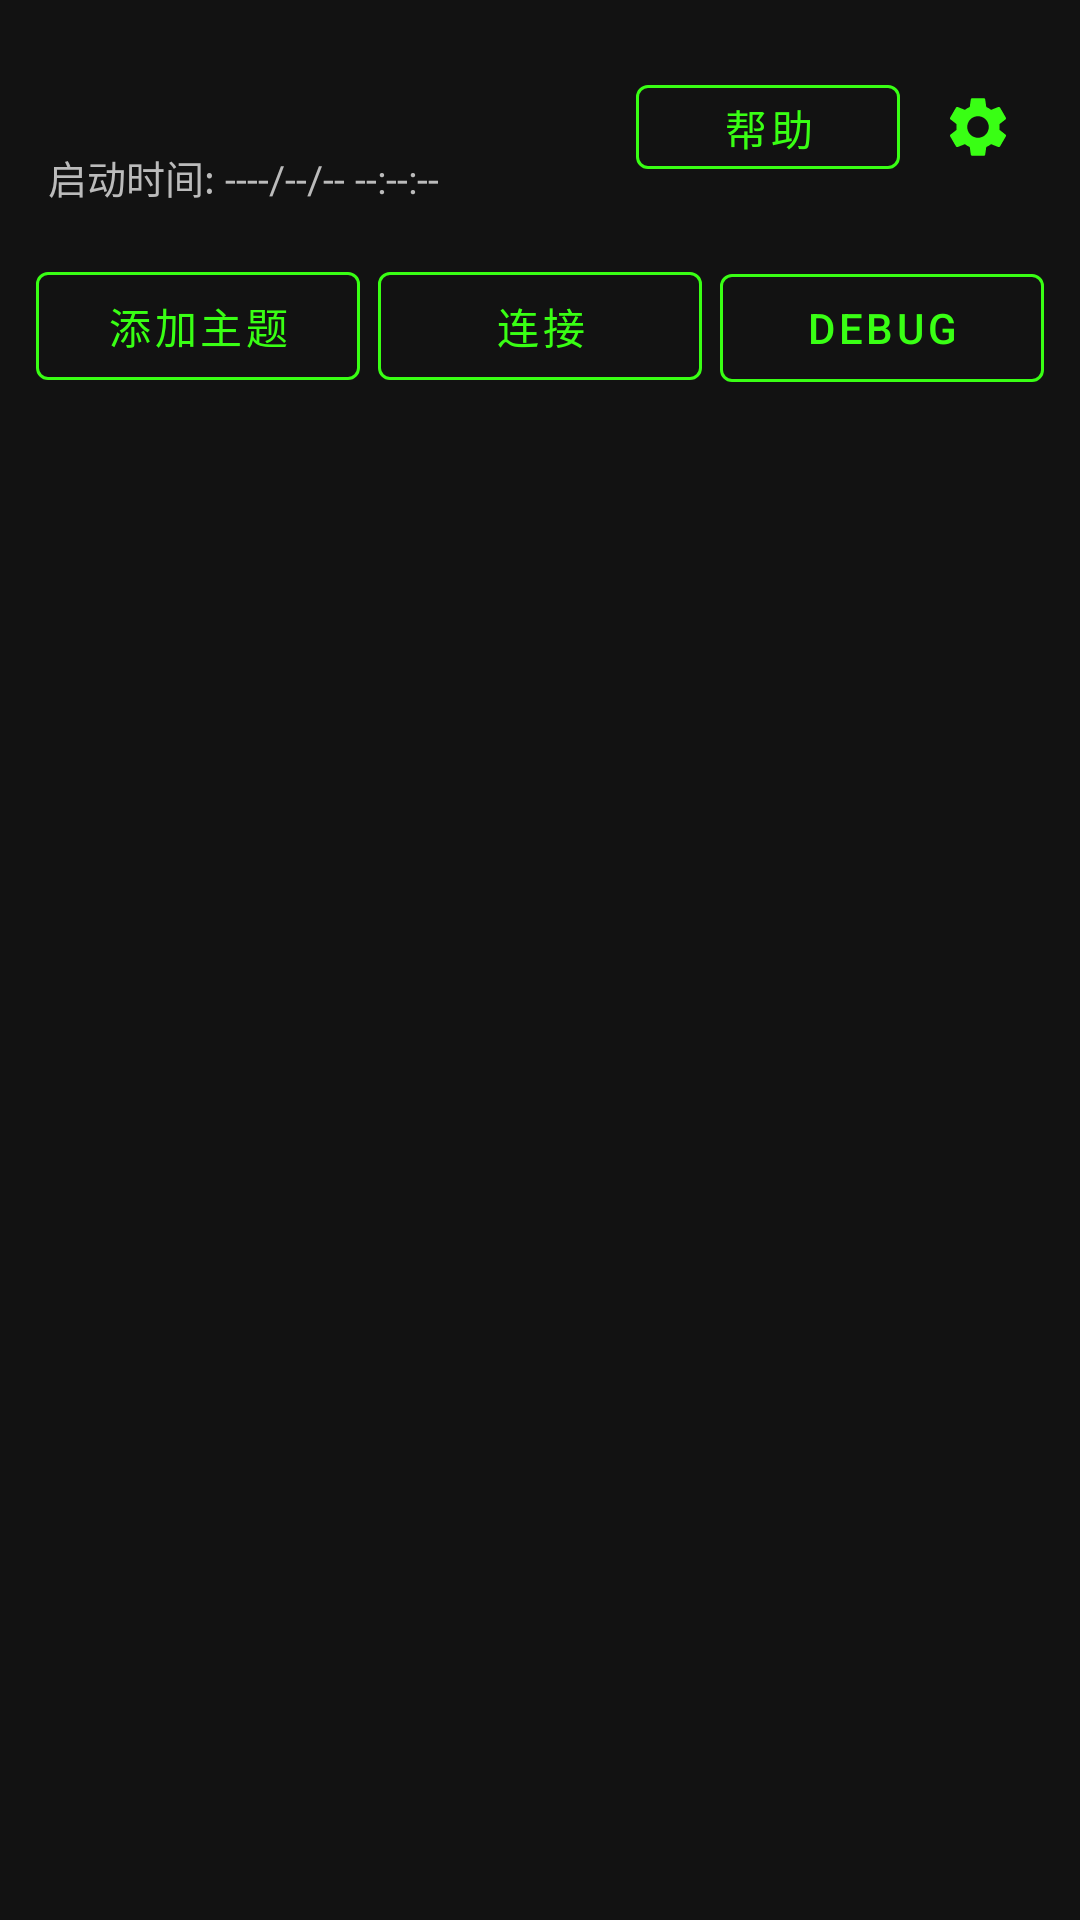

Icons on this 1080 x 1920 Android screen, each with its box as (x1, y1, x2, y2):
设置: (950, 98, 1006, 156)
